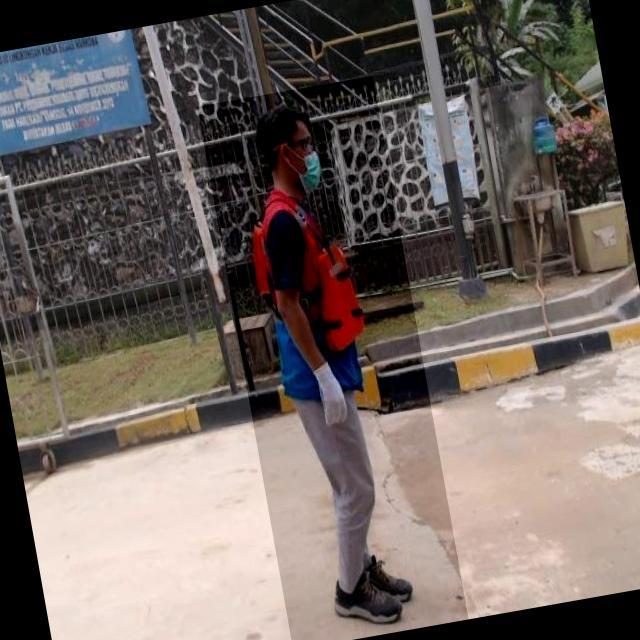Gloves: (306, 350, 357, 434)
Person: (218, 94, 441, 640)
Safety Boot: (328, 562, 406, 635), (356, 548, 417, 618)
Safety Vest: (245, 176, 377, 406)
no-helmet: (243, 100, 320, 139)
